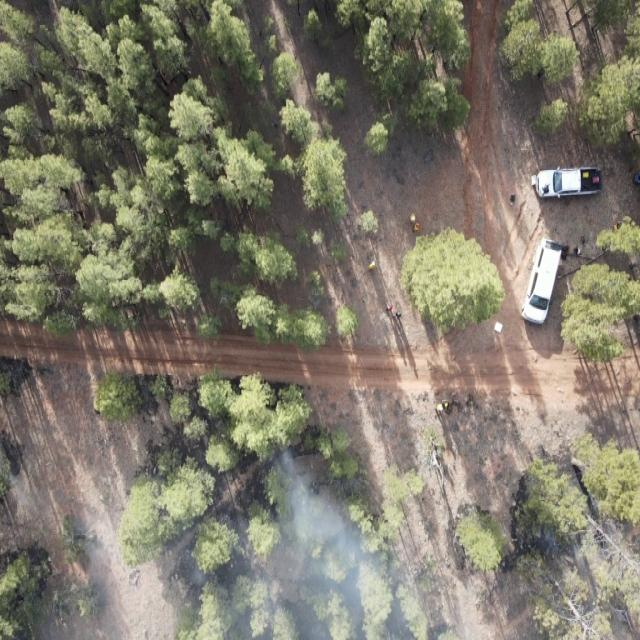smoke: (61, 432, 316, 640), (317, 486, 457, 640), (524, 527, 640, 640)
